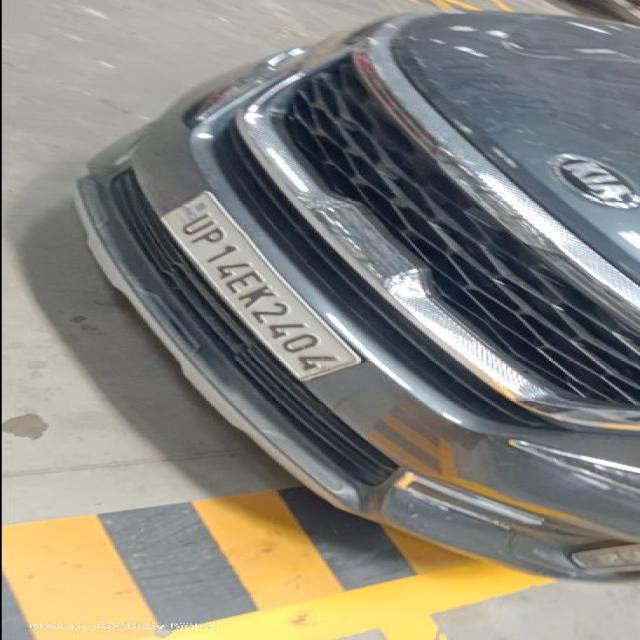license_plate: (71, 8, 638, 580), (155, 189, 363, 381)
